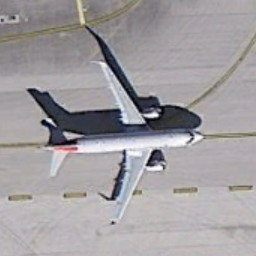Airplane: (24, 46, 215, 233)
